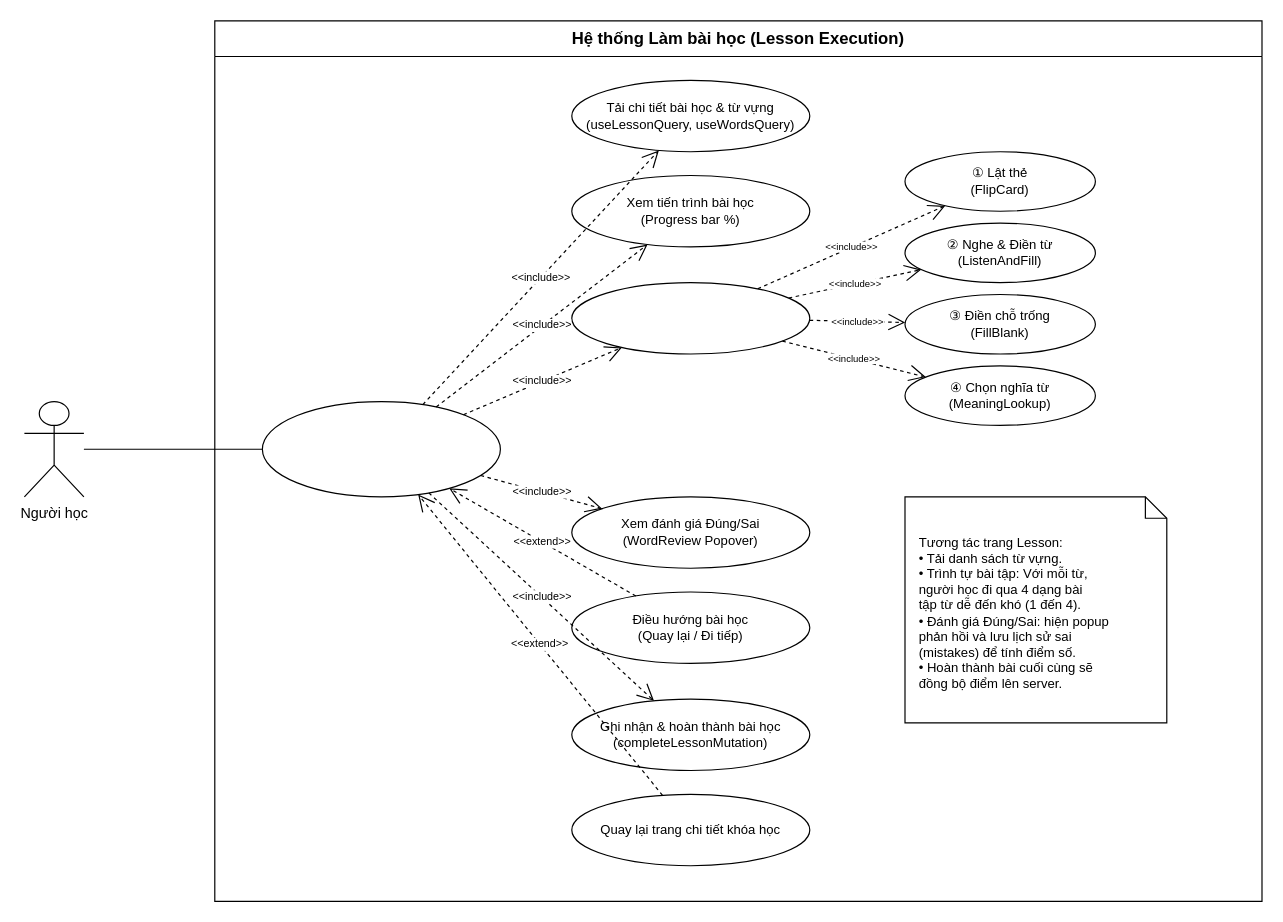
This 1283x922 diagram has some shape labels left out. The box of each missing label's shape, as (x1, y1, x2, y2) in pixels:
Làm các bài tập ôn luyện: (571, 281, 810, 354)
Thực hiện bài học (Lesson Page): (261, 400, 500, 497)
